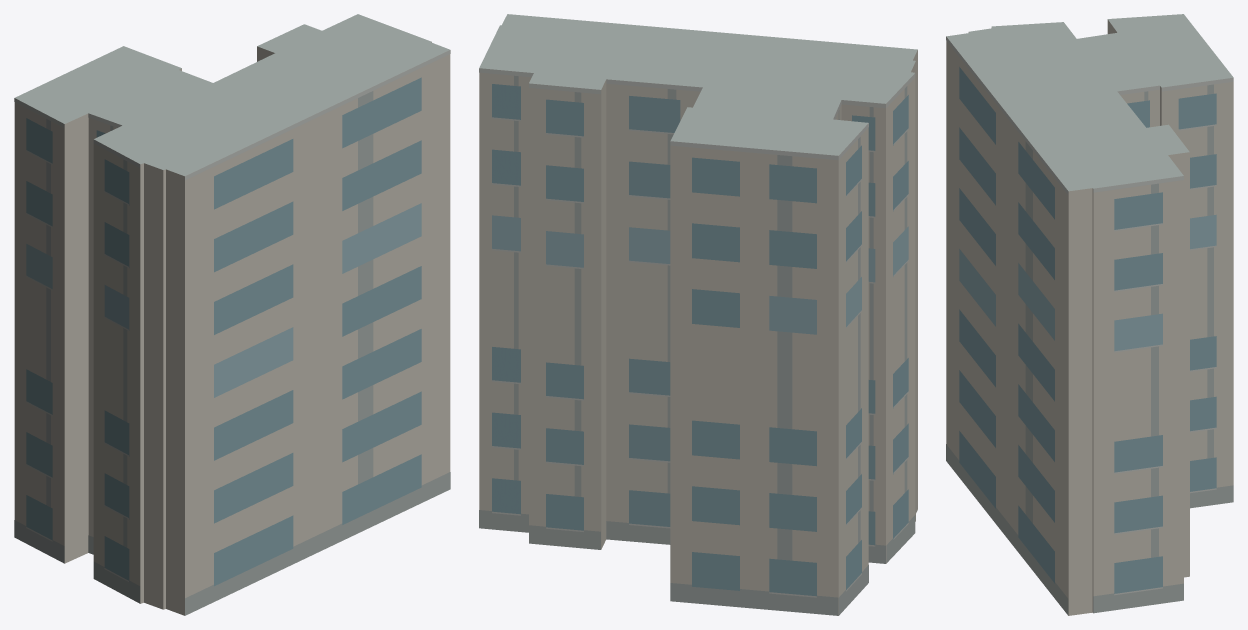
The model's file is survey-upis-32563739.glb.
3 renders of one model, left to right at view 1: azimuth 30°, elevation 25°; view 2: azimuth 150°, elevation 25°; view 3: azimuth 270°, elevation 25°, orthographic. The views are drawn at different scales.
Visible parts, largest first — view 1: survey-upis-32563739.tmp; view 2: survey-upis-32563739.tmp; view 3: survey-upis-32563739.tmp.
Part boxes in pixels (x1,y1,x2,y2): survey-upis-32563739.tmp: (14,14,450,615); survey-upis-32563739.tmp: (479,14,917,615); survey-upis-32563739.tmp: (946,14,1233,615).
Size of the model in its own units: 22.62 by 25.25 by 15.51.
